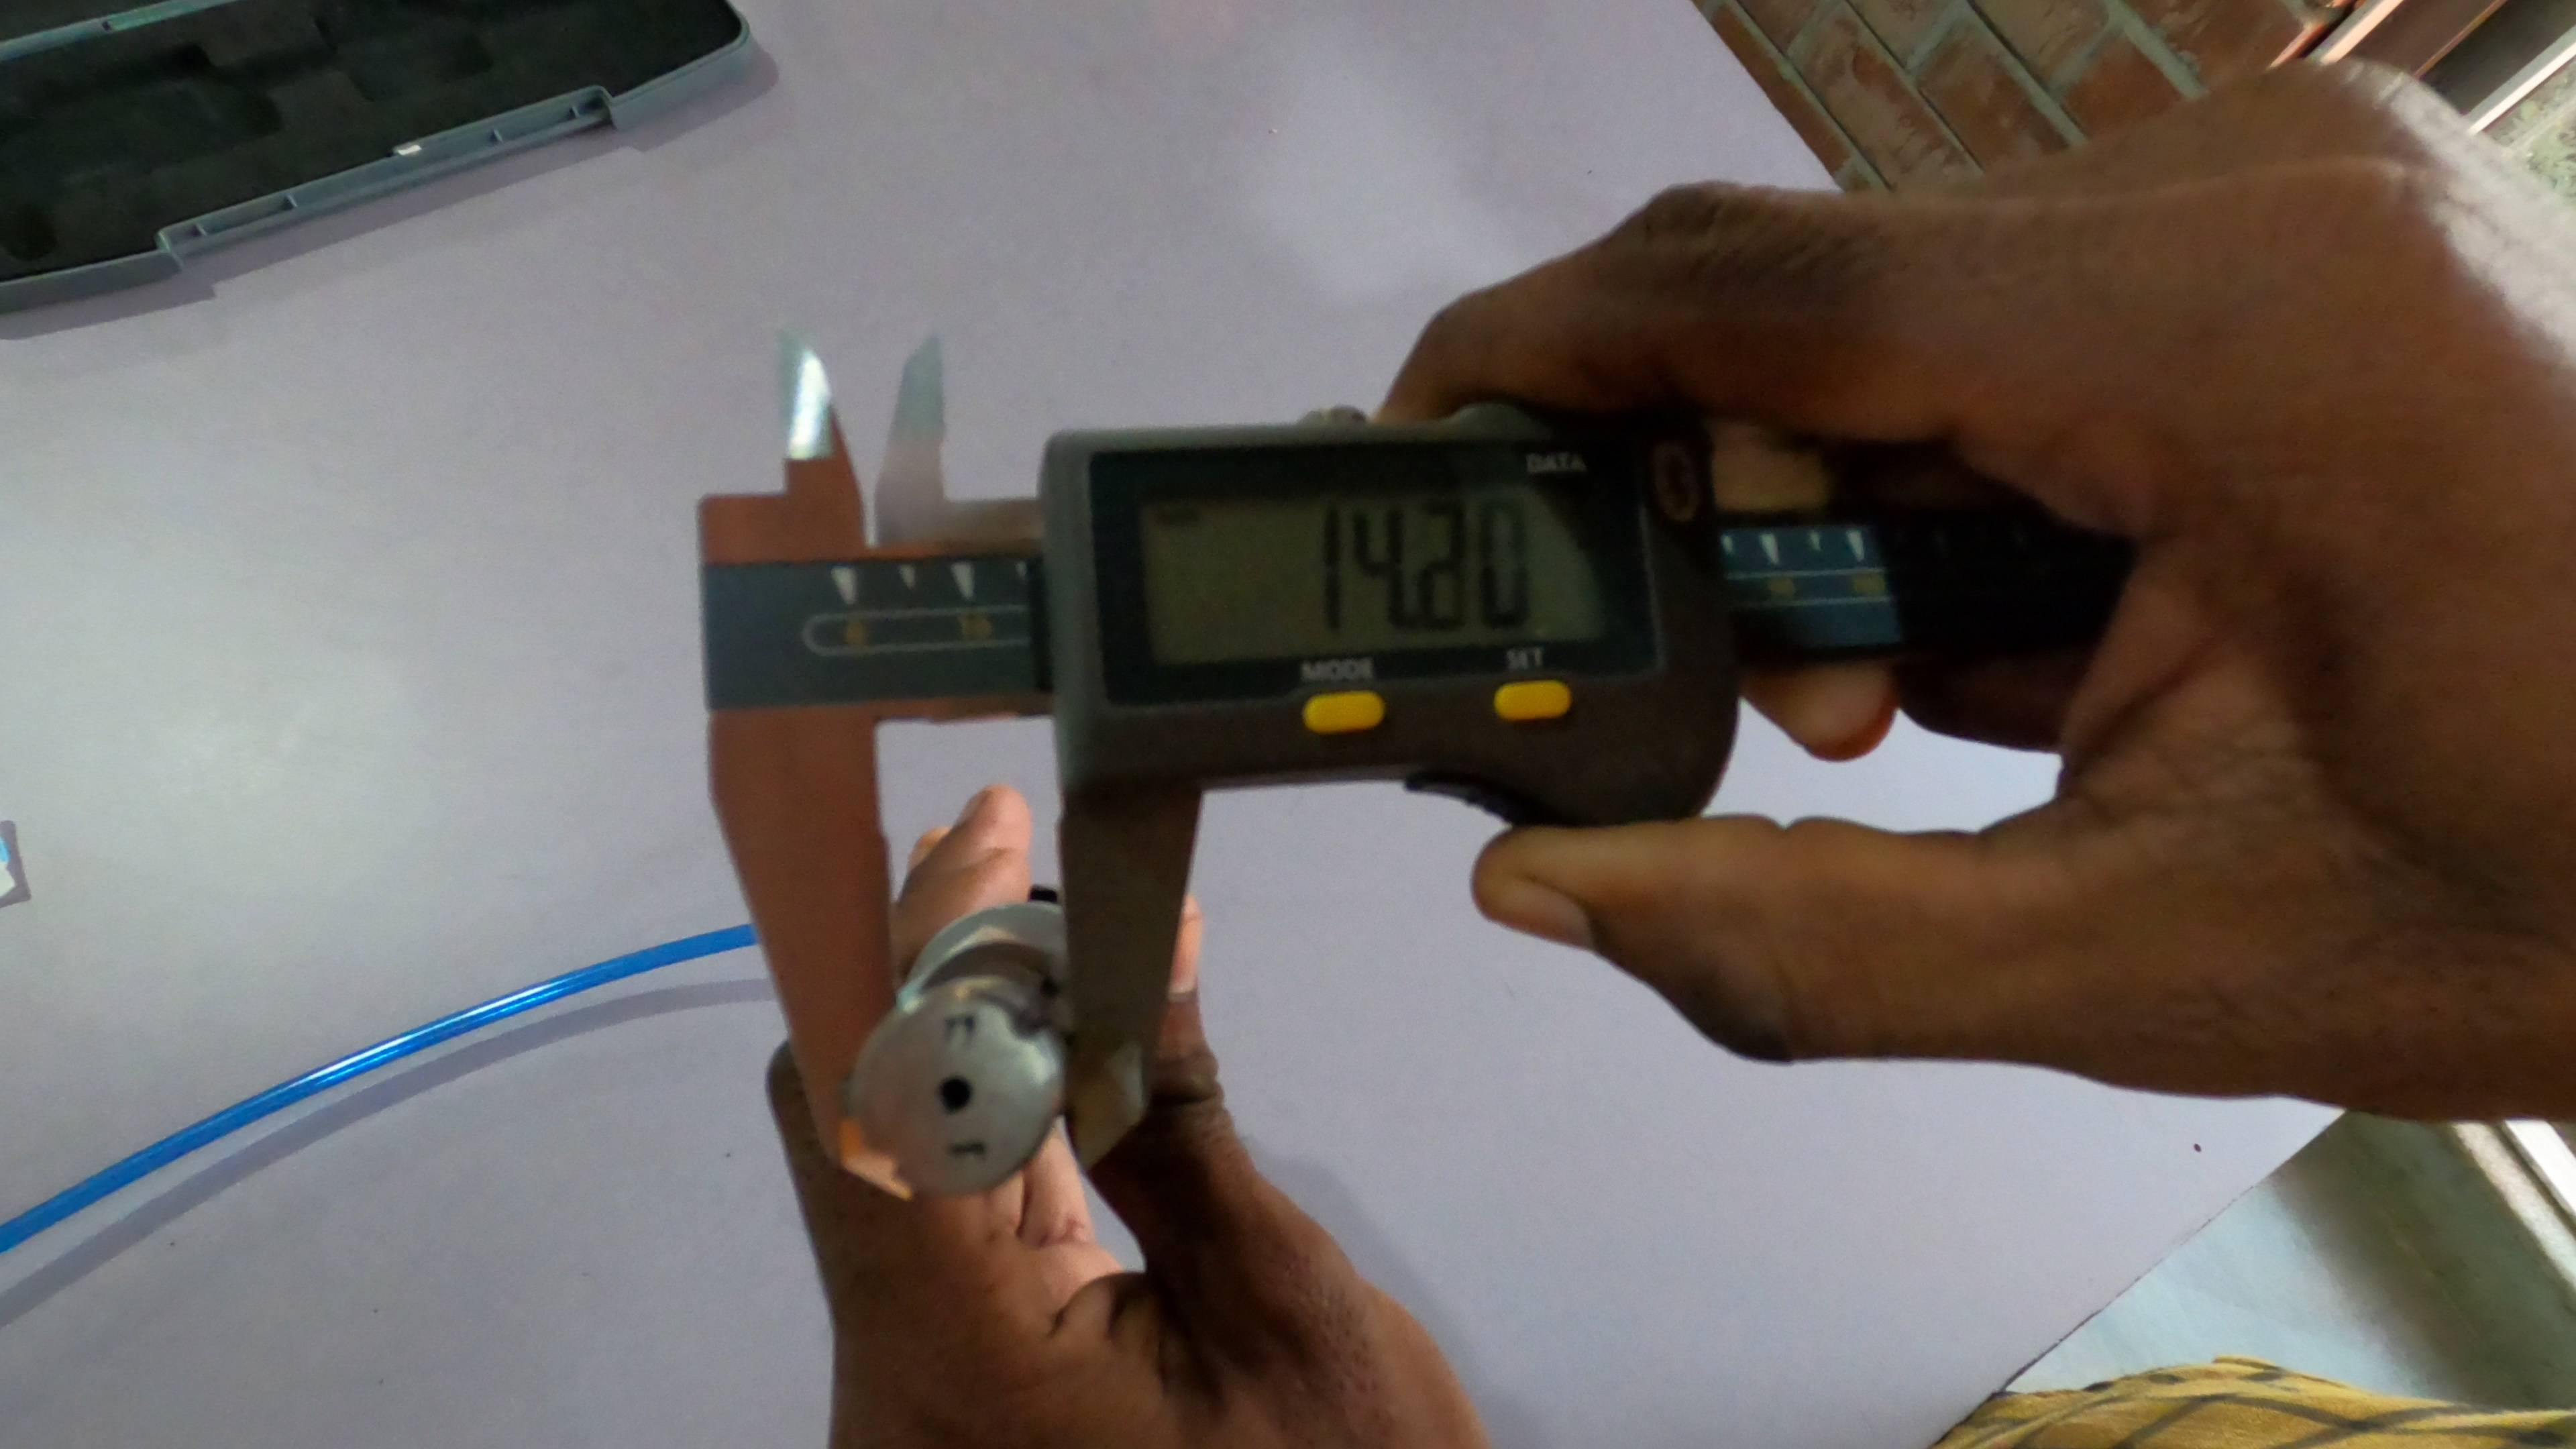vernier_caliper: (694, 326, 2137, 1200)
